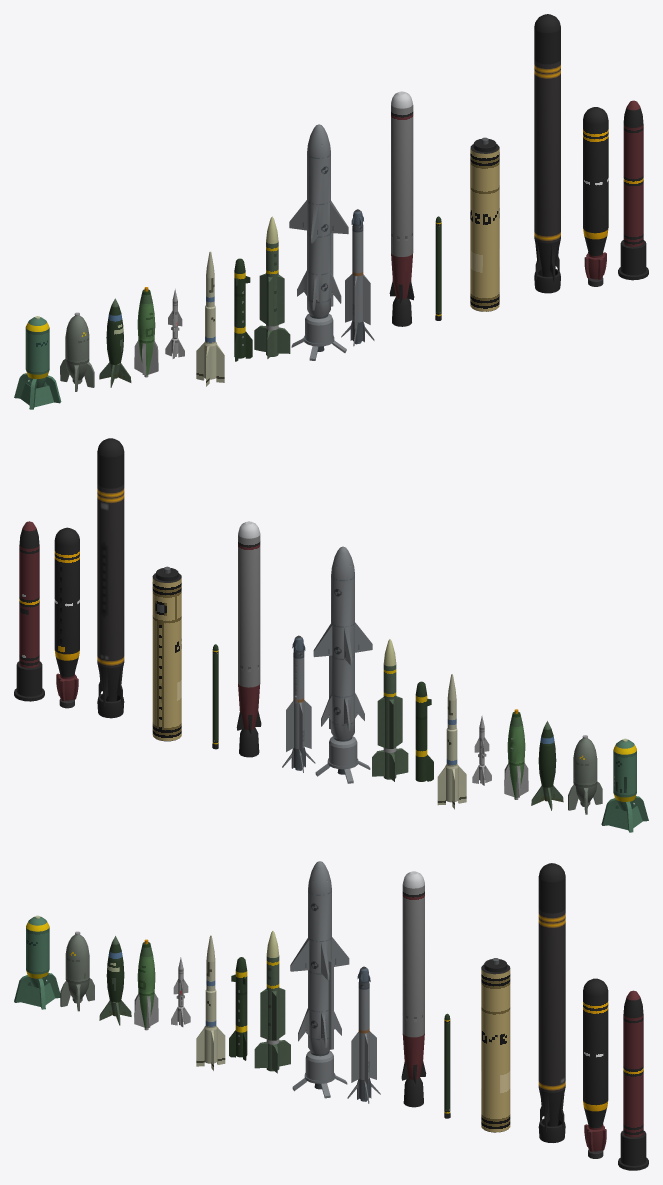
File: projectiles.fbx
The picture shows the model from 3 angles, top to bottom: view 1: azimuth 30°, elevation 25°; view 2: azimuth 150°, elevation 25°; view 3: azimuth 330°, elevation 25°; orthographic projection.
Parts seen in each view (by area): view 1: torpedo, cruise_missile, tomahawk_cruise_missile, sonar_buoy, noisemaker, decoy_torpedo, missile_4, bomb_1, air_launched_missile, missile_2, bomb_2, bomb_4 (+4 smaller); view 2: torpedo, cruise_missile, tomahawk_cruise_missile, sonar_buoy, noisemaker, decoy_torpedo, missile_4, bomb_1, air_launched_missile, missile_2, bomb_2, bomb_4 (+4 smaller); view 3: torpedo, cruise_missile, tomahawk_cruise_missile, sonar_buoy, noisemaker, decoy_torpedo, missile_4, bomb_1, air_launched_missile, missile_2, bomb_2, bomb_4 (+4 smaller).
Boxes of the visible parts, bbox=[...] form: torpedo: bbox=[534, 14, 560, 293]; cruise_missile: bbox=[289, 124, 348, 360]; tomahawk_cruise_missile: bbox=[389, 91, 414, 326]; sonar_buoy: bbox=[470, 137, 499, 311]; noisemaker: bbox=[583, 107, 608, 286]; decoy_torpedo: bbox=[618, 100, 648, 280]; missile_4: bbox=[254, 216, 290, 358]; bomb_1: bbox=[14, 316, 61, 409]; air_launched_missile: bbox=[341, 209, 374, 346]; missile_2: bbox=[196, 251, 224, 386]; bomb_2: bbox=[60, 312, 94, 391]; bomb_4: bbox=[134, 287, 158, 377]; torpedo: bbox=[97, 438, 124, 718]; cruise_missile: bbox=[313, 546, 372, 783]; tomahawk_cruise_missile: bbox=[236, 521, 261, 757]; sonar_buoy: bbox=[152, 566, 181, 741]; noisemaker: bbox=[54, 527, 79, 708]; decoy_torpedo: bbox=[14, 521, 44, 701]; missile_4: bbox=[372, 639, 408, 781]; bomb_1: bbox=[601, 738, 648, 832]; air_launched_missile: bbox=[282, 635, 315, 772]; missile_2: bbox=[437, 674, 466, 809]; bomb_2: bbox=[568, 735, 602, 814]; bomb_4: bbox=[504, 709, 528, 799]; torpedo: bbox=[538, 863, 565, 1142]; cruise_missile: bbox=[290, 861, 349, 1098]; tomahawk_cruise_missile: bbox=[401, 871, 426, 1107]; sonar_buoy: bbox=[481, 958, 510, 1132]; noisemaker: bbox=[583, 978, 608, 1158]; decoy_torpedo: bbox=[618, 990, 648, 1170]; missile_4: bbox=[254, 931, 290, 1073]; bomb_1: bbox=[14, 915, 60, 1009]; air_launched_missile: bbox=[347, 966, 380, 1103]; missile_2: bbox=[196, 935, 225, 1070]; bomb_2: bbox=[60, 931, 94, 1011]; bomb_4: bbox=[134, 939, 158, 1030].
Size of the model in its own units: 1326 by 573 by 85.82.
16 materials, 16 textured.
